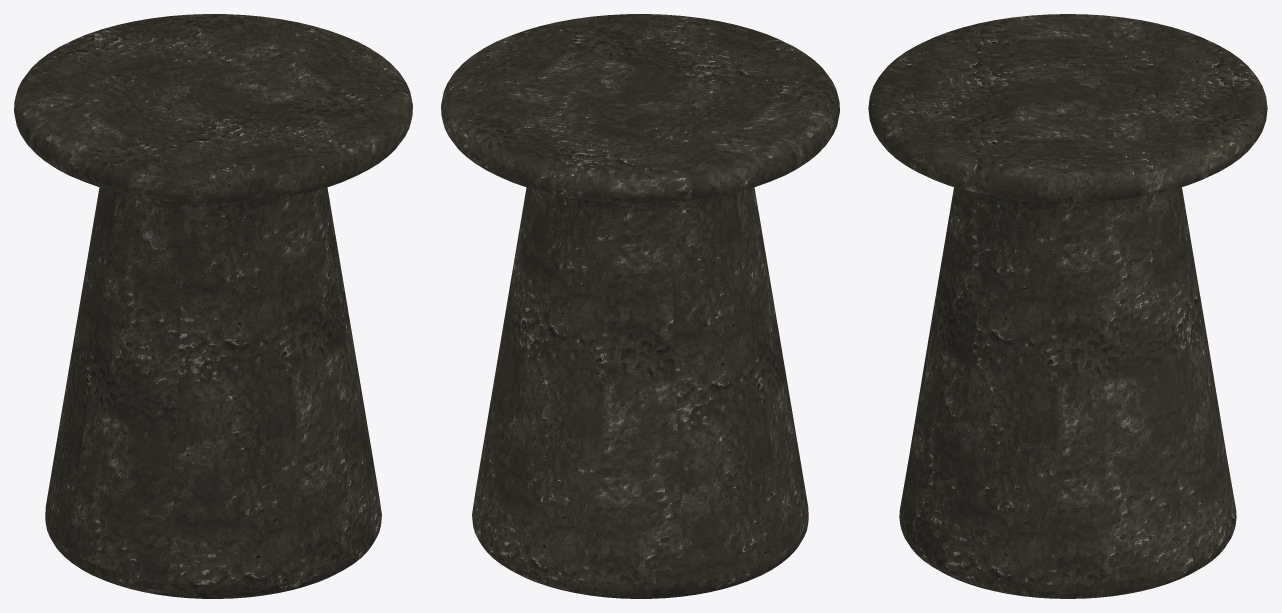
File: sedia.glb
3 views of the same model, side by side, from view 1: azimuth 30°, elevation 25°; view 2: azimuth 150°, elevation 25°; view 3: azimuth 270°, elevation 25° (orthographic).
Parts seen in each view (by area): view 1: Ceramica; view 2: Ceramica; view 3: Ceramica.
Part boxes in pixels (x1,y1,x2,y2): Ceramica: (14,14,412,598); Ceramica: (441,14,839,598); Ceramica: (868,14,1267,598).
Size of the model in its own units: 0.41 by 0.5 by 0.41.
1 material, 1 textured.
